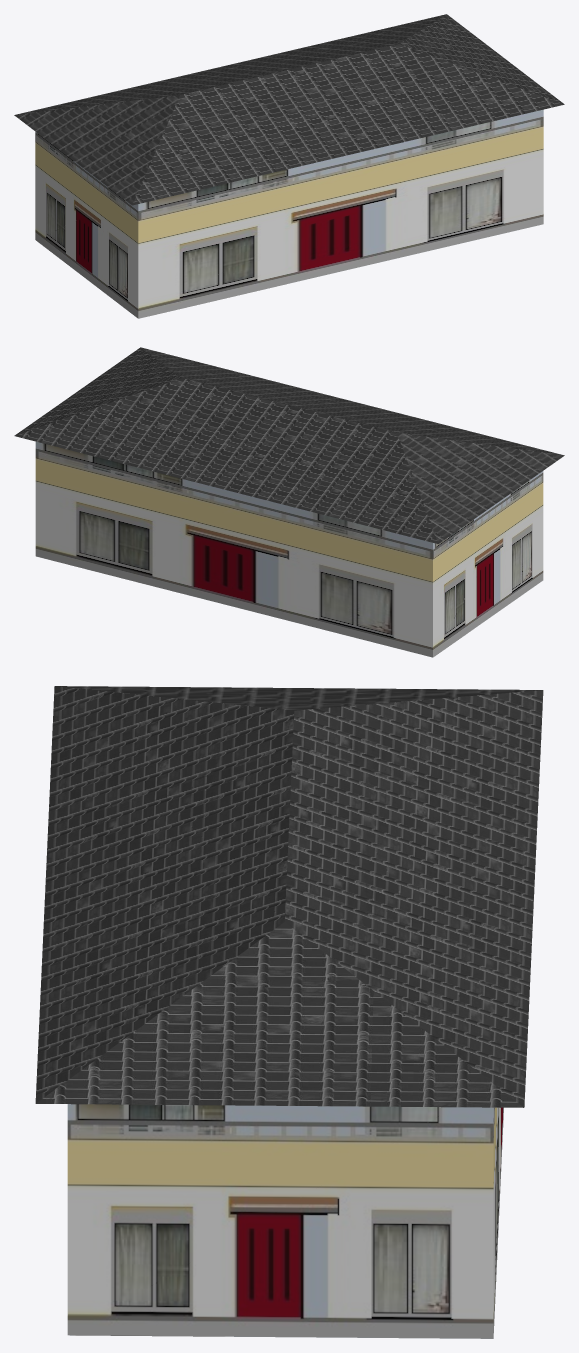
3 views of the same model, one above another, from view 1: azimuth 30°, elevation 25°; view 2: azimuth 150°, elevation 25°; view 3: azimuth 270°, elevation 25° (orthographic). The views are drawn at different scales.
Parts seen in each view (by area): view 1: CityEngineMaterial_15_m, CityEngineMaterial_16_m; view 2: CityEngineMaterial_15_m, CityEngineMaterial_16_m; view 3: CityEngineMaterial_16_m, CityEngineMaterial_15_m.
Part boxes in pixels (<box>): CityEngineMaterial_15_m: <box>35,109,543,318</box>; CityEngineMaterial_16_m: <box>14,14,564,205</box>; CityEngineMaterial_15_m: <box>35,441,543,657</box>; CityEngineMaterial_16_m: <box>14,347,564,543</box>; CityEngineMaterial_16_m: <box>35,686,543,1107</box>; CityEngineMaterial_15_m: <box>67,1104,503,1338</box>.
Size of the model in its own units: 29.77 by 10.71 by 15.15.
